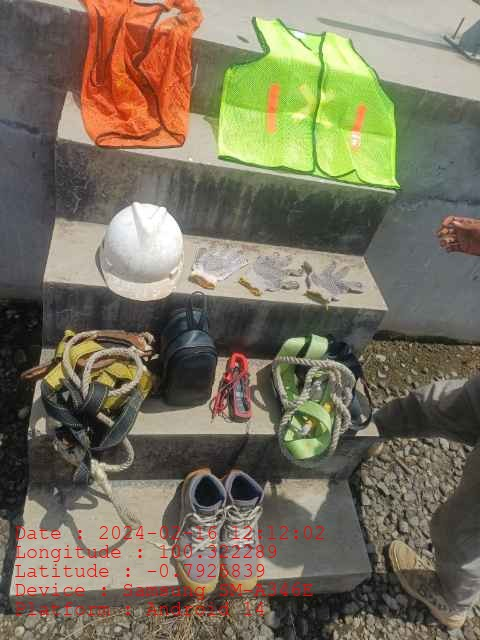HELM: (98, 203, 184, 301)
ROMPI: (222, 12, 398, 188)
SARUNG_TANGAN: (301, 259, 364, 304), (190, 243, 250, 288)
